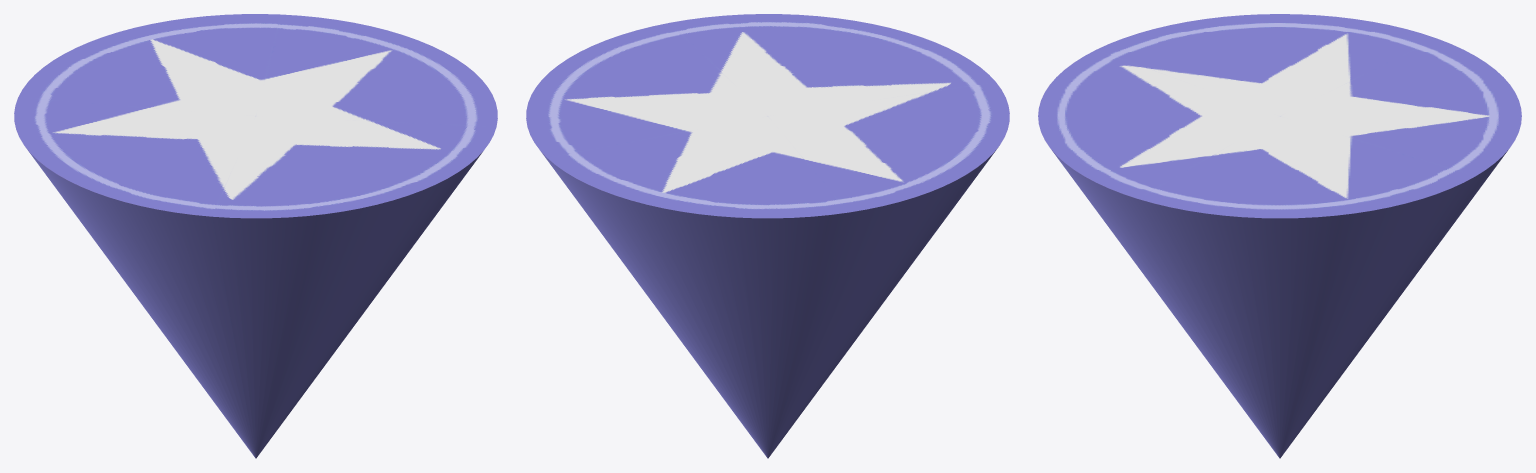
The model's file is 플레이어2갈곳.fbx.
3 views of the same model, side by side, from view 1: azimuth 30°, elevation 25°; view 2: azimuth 150°, elevation 25°; view 3: azimuth 270°, elevation 25° (orthographic).
Parts seen in each view (by area): view 1: root; view 2: root; view 3: root.
Boxes of the visible parts, x1,y1,x2,y2 form: root: (14, 14, 497, 458); root: (526, 14, 1009, 458); root: (1038, 14, 1521, 458).
Bounding box in the file's own units: 0.2547 × 0.1991 × 0.2547.
1 material, 1 textured.
